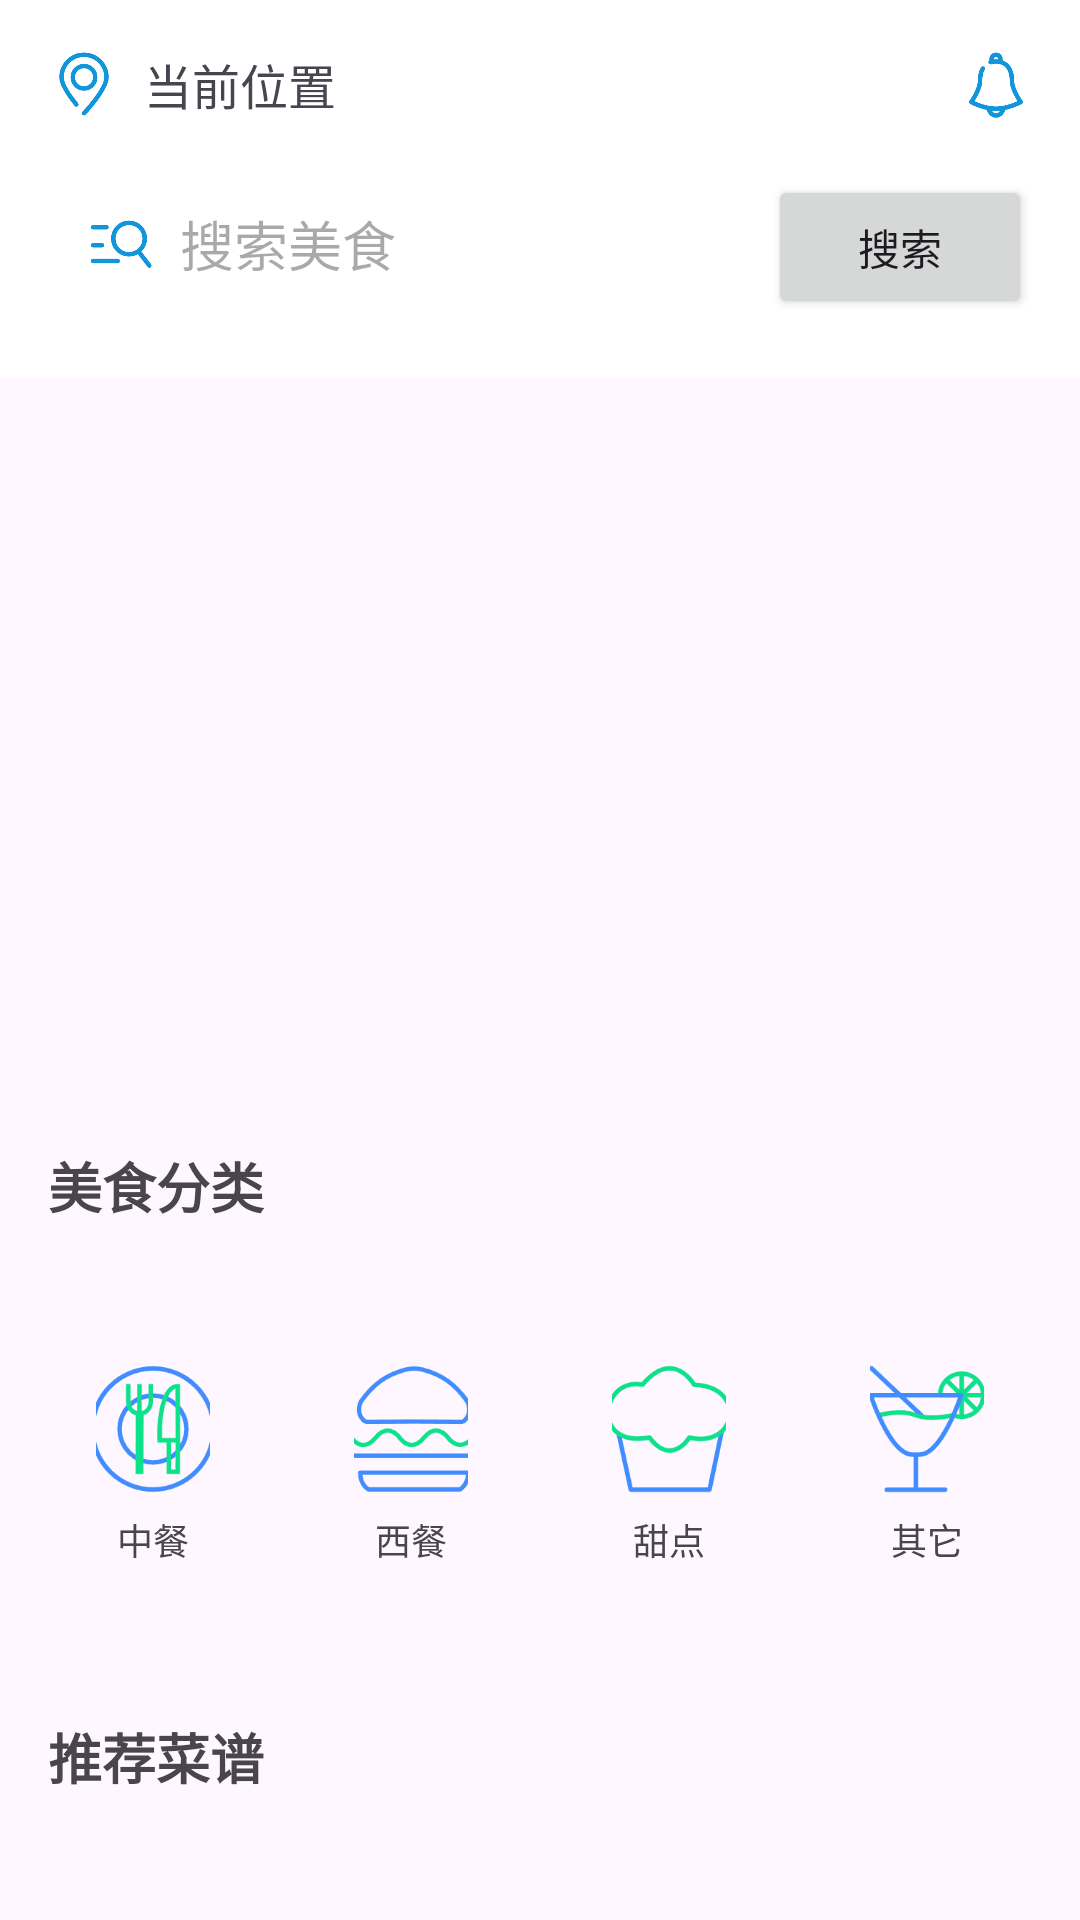

Icons on this 1080px×1920px Android screen, each with the point to tap as [x,y]:
Location Icon: [84,84]
Notification Icon: [996,85]
